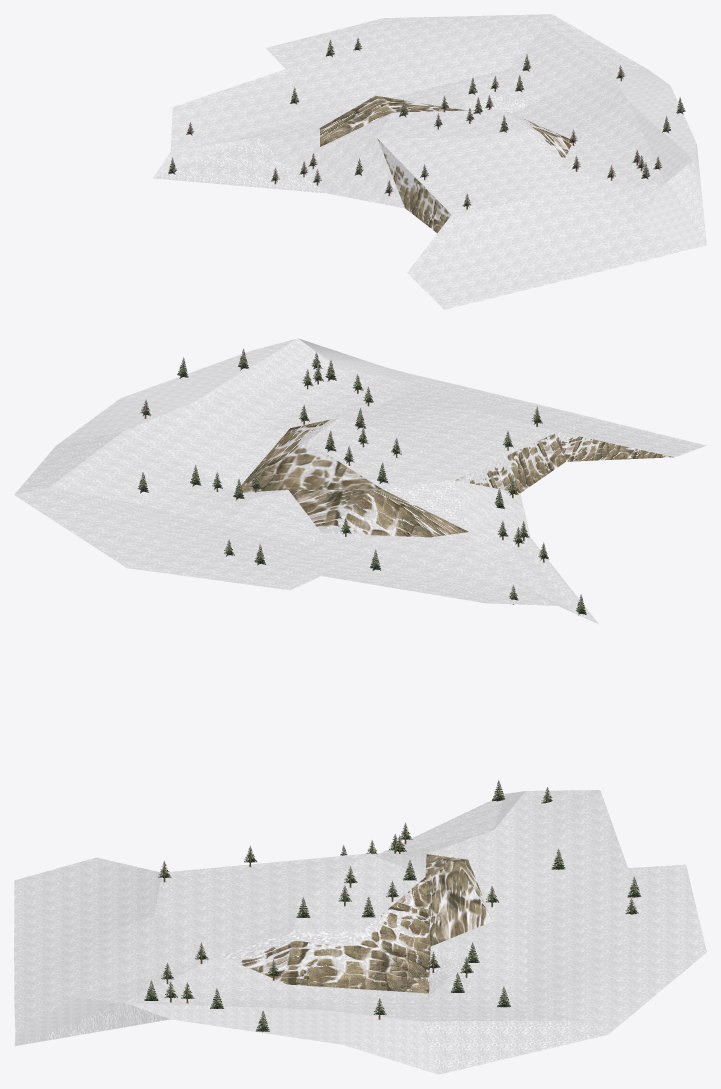
The model's file is bormio.glb.
3 renders of one model, top to bottom at view 1: azimuth 30°, elevation 25°; view 2: azimuth 150°, elevation 25°; view 3: azimuth 270°, elevation 25°, orthographic. The views are drawn at different scales.
Visible parts, largest first — view 1: 4 11_5SNOW64.MAT_0, 3 12_5SNOW64.MAT_0, 3 11_5SNOW64.MAT_0, 3 15_5SNOW64.MAT_0, 2 15_5SNOW64.MAT_0, 2 11_5SNOW64.MAT_0, 2 12_5SNOW64.MAT_0, 4 14_5SNOW64.MAT_0, 2 14_5SNOW64.MAT_0, 4 13_5SNOW64.MAT_0, 5 14_5SNOW64.MAT_0, 5 13_5SNOW64.MAT_0 (+10 smaller); view 2: 2 12_5SNOW64.MAT_0, 2 14_5SNOW64.MAT_0, 3 12_5SNOW64.MAT_0, 2 15_5SNOW64.MAT_0, 3 15_5SNOW64.MAT_0, 4 14_5SNOW64.MAT_0, 2 13_5SNOW64.MAT_0, 4 13_5SNOW64.MAT_0, 3 13_5SNOW64.MAT_0, 4 14_6SNOROK.MAT_0, 3 11_5SNOW64.MAT_0, 4 11_5SNOW64.MAT_0 (+12 smaller); view 3: 3 12_5SNOW64.MAT_0, 3 15_5SNOW64.MAT_0, 4 14_5SNOW64.MAT_0, 4 11_5SNOW64.MAT_0, 2 15_5SNOW64.MAT_0, 3 11_5SNOW64.MAT_0, 2 13_6SNOROK.MAT_0, 2 14_5SNOW64.MAT_0, 2 11_5SNOW64.MAT_0, 1 14_5SNOW64.MAT_0, 3 13_5SNOW64.MAT_0, 2 12_5SNOW64.MAT_0 (+11 smaller).
Part boxes in pixels (bbox=[...]): 4 11_5SNOW64.MAT_0: bbox=[407, 200, 554, 309]; 3 12_5SNOW64.MAT_0: bbox=[377, 129, 560, 214]; 3 11_5SNOW64.MAT_0: bbox=[524, 166, 636, 282]; 3 15_5SNOW64.MAT_0: bbox=[266, 18, 440, 99]; 2 15_5SNOW64.MAT_0: bbox=[383, 14, 551, 84]; 2 11_5SNOW64.MAT_0: bbox=[561, 144, 706, 262]; 2 12_5SNOW64.MAT_0: bbox=[561, 101, 692, 187]; 4 14_5SNOW64.MAT_0: bbox=[173, 69, 368, 146]; 2 14_5SNOW64.MAT_0: bbox=[441, 24, 608, 113]; 4 13_5SNOW64.MAT_0: bbox=[255, 113, 404, 208]; 5 14_5SNOW64.MAT_0: bbox=[153, 107, 305, 178]; 5 13_5SNOW64.MAT_0: bbox=[153, 137, 325, 193]; 2 12_5SNOW64.MAT_0: bbox=[192, 338, 369, 435]; 2 14_5SNOW64.MAT_0: bbox=[49, 432, 287, 525]; 3 12_5SNOW64.MAT_0: bbox=[340, 408, 557, 479]; 2 15_5SNOW64.MAT_0: bbox=[14, 487, 225, 567]; 3 15_5SNOW64.MAT_0: bbox=[127, 525, 320, 590]; 4 14_5SNOW64.MAT_0: bbox=[309, 532, 484, 603]; 2 13_5SNOW64.MAT_0: bbox=[123, 403, 289, 491]; 4 13_5SNOW64.MAT_0: bbox=[382, 480, 530, 566]; 3 13_5SNOW64.MAT_0: bbox=[307, 417, 454, 488]; 4 14_6SNOROK.MAT_0: bbox=[322, 489, 468, 537]; 3 11_5SNOW64.MAT_0: bbox=[370, 383, 571, 418]; 4 11_5SNOW64.MAT_0: bbox=[479, 408, 706, 457]; 3 12_5SNOW64.MAT_0: bbox=[154, 853, 367, 955]; 3 15_5SNOW64.MAT_0: bbox=[526, 864, 706, 961]; 4 14_5SNOW64.MAT_0: bbox=[427, 790, 627, 921]; 4 11_5SNOW64.MAT_0: bbox=[14, 857, 161, 949]; 2 15_5SNOW64.MAT_0: bbox=[526, 942, 706, 1034]; 3 11_5SNOW64.MAT_0: bbox=[14, 916, 219, 1001]; 2 13_6SNOROK.MAT_0: bbox=[288, 931, 430, 993]; 2 14_5SNOW64.MAT_0: bbox=[420, 947, 578, 1021]; 2 11_5SNOW64.MAT_0: bbox=[14, 956, 218, 1045]; 1 14_5SNOW64.MAT_0: bbox=[420, 1020, 607, 1074]; 3 13_5SNOW64.MAT_0: bbox=[293, 853, 424, 931]; 2 12_5SNOW64.MAT_0: bbox=[126, 956, 324, 1009].
Bounding box in the file's own units: 14.83 × 2.48 × 12.63.
6 materials, 6 textured.
